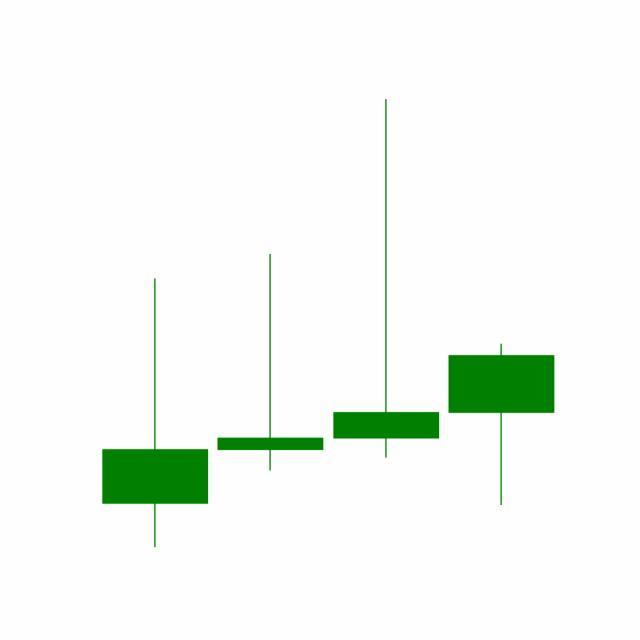Gravestone Doji: (329, 96, 445, 463)
